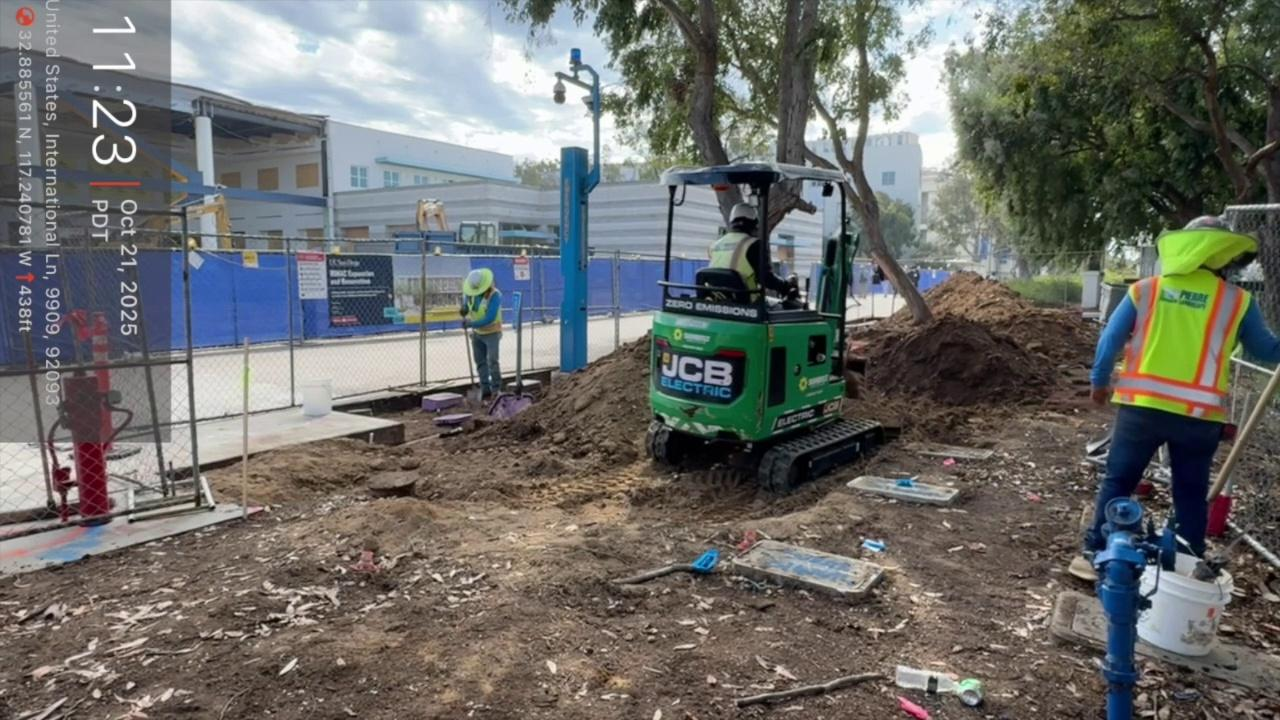Exacavator: (643, 159, 889, 495)
